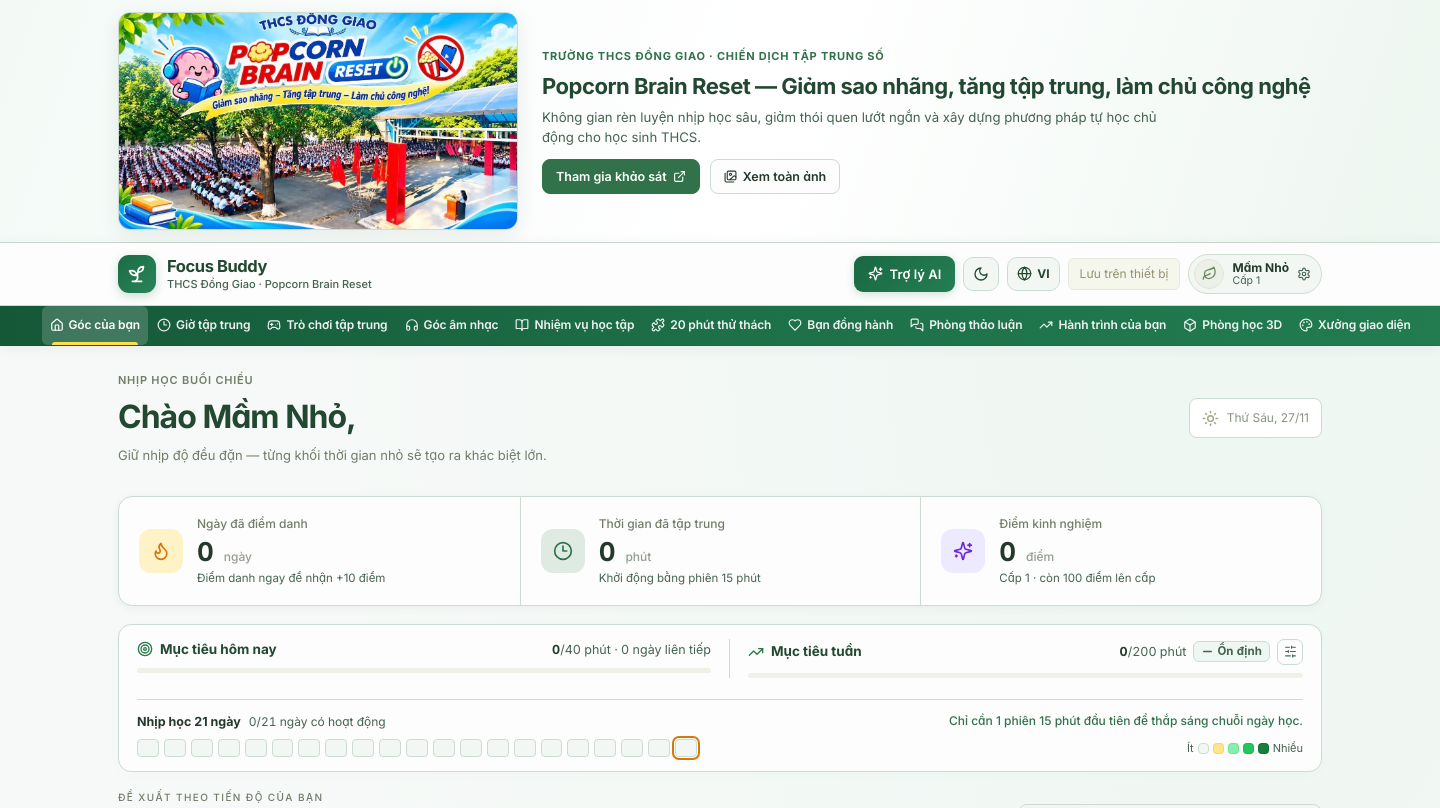
Scenario: Trải nghiệm dùng thử bằng tiếng Việt › bỏ bảng xếp hạng và ghi rõ câu trả lời soạn sẵn
The width and height of the screenshot is (1440, 808).
Click the button with aria-label "Trò chuyện cùng bạn": {"x": 904, "y": 274} [854,256,955,292]
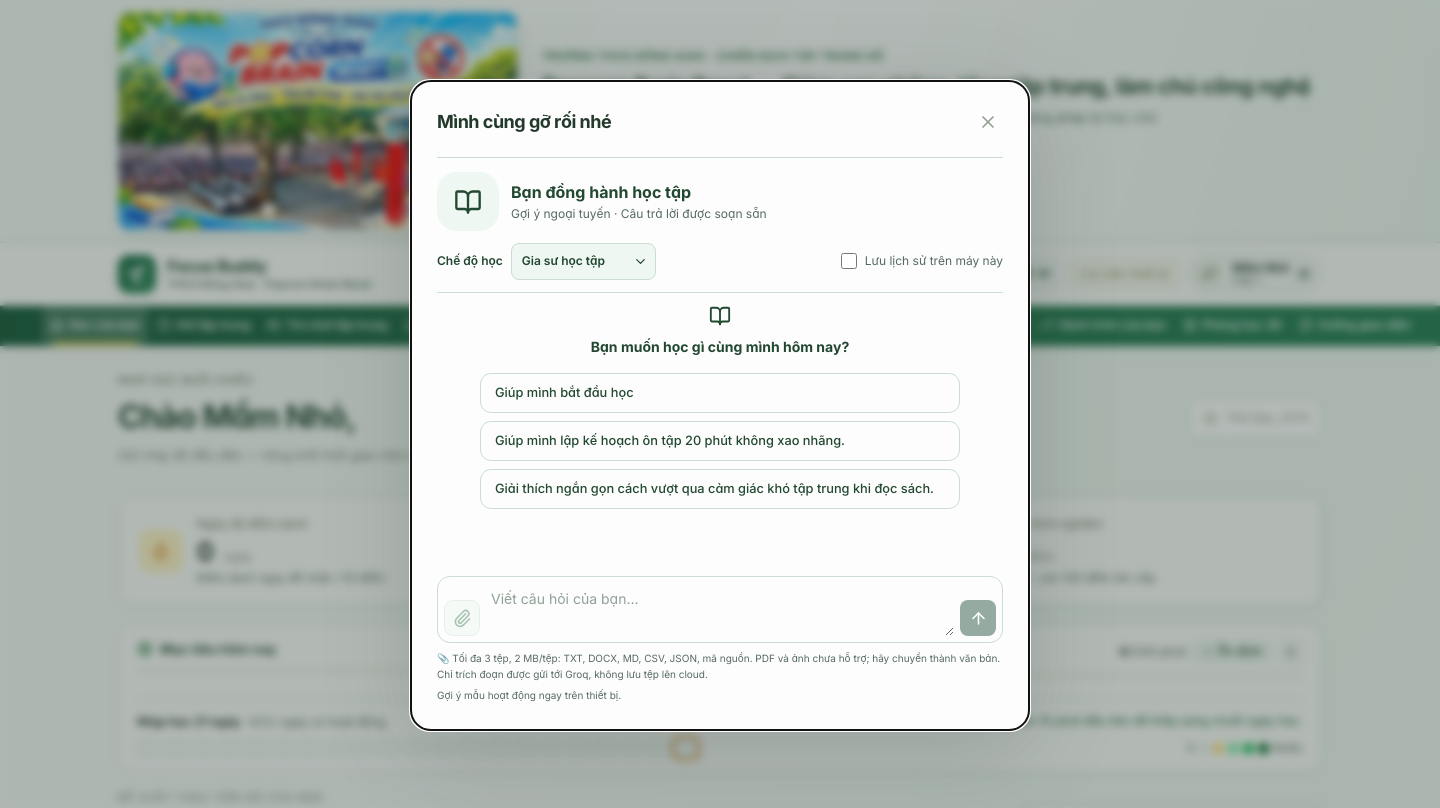
Now the text "Gợi ý ngoại tuyến · Câu trả lời được soạn sẵn" is shown, box [511,204,767,223]
In the text box named "Tin nhắn cho bạn đồng hành": {"x": 720, "y": 609} [486,583,954,636], type "Mình hơi mệt"
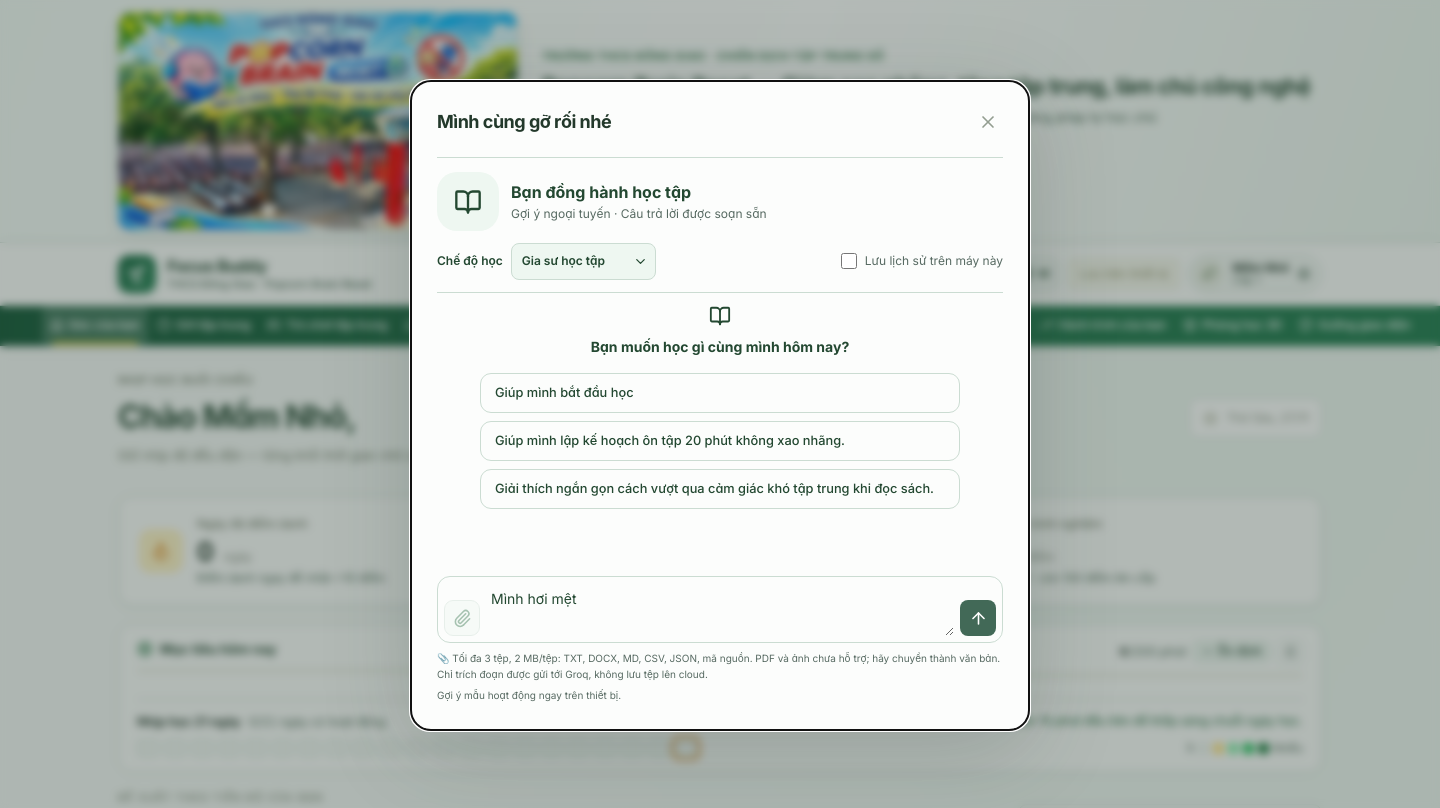
Click the button named "Gửi tin nhắn": {"x": 978, "y": 618} [960,600,996,636]
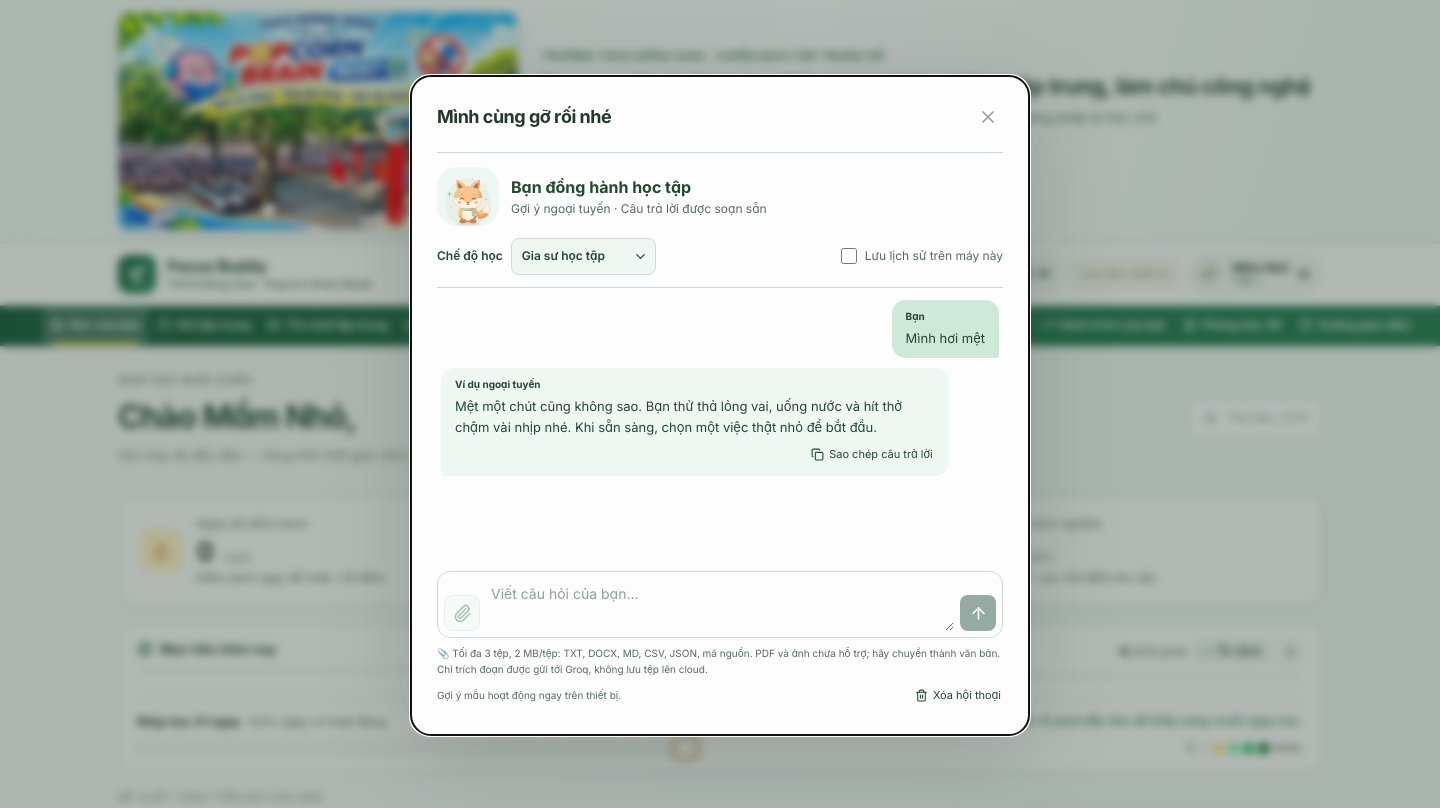
Now the text "Mệt một chút cũng không sao" is shown, box [455,398,902,435]
